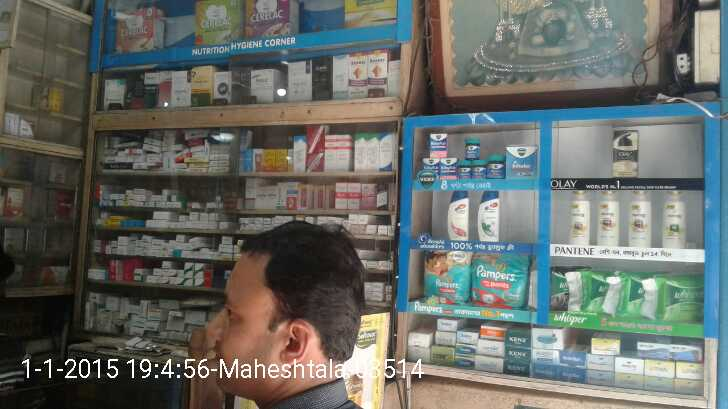vicks: (422, 129, 541, 178)
